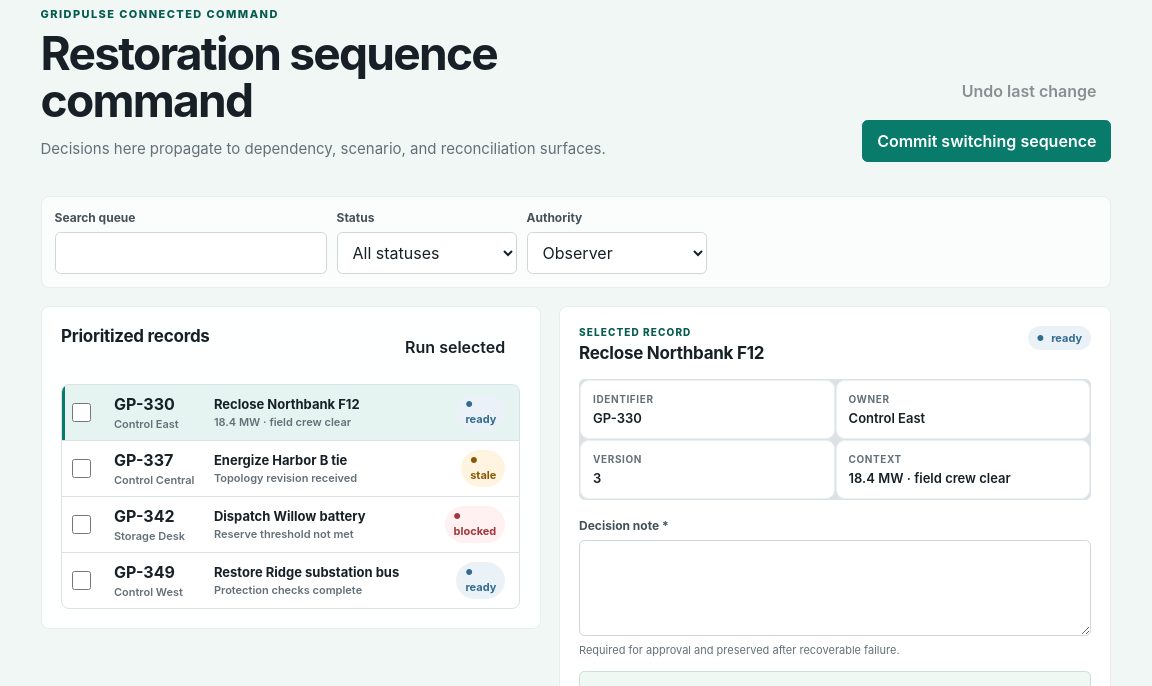
Test: Restoration sequence command › enforces authority and validates the explanation
Click the button "Commit switching sequence" at (987, 141), box [862,120,1111,162]
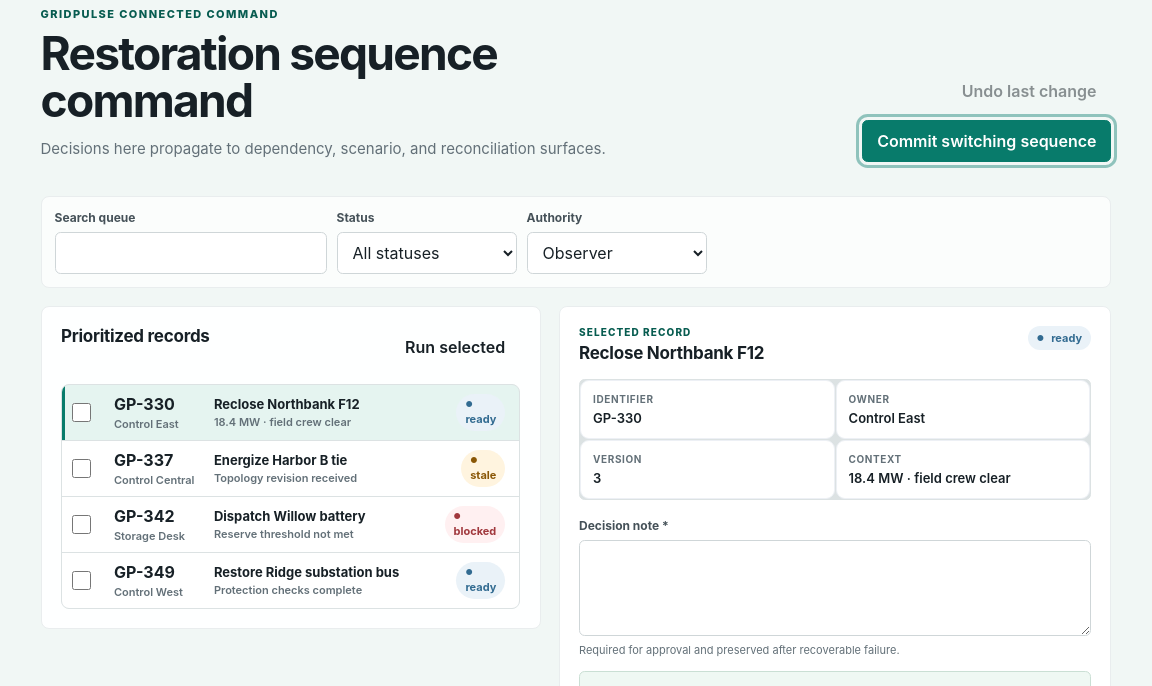
Select "Approver" in the dropdown labelled "Authority" at (616, 253), box [526,232,706,274]
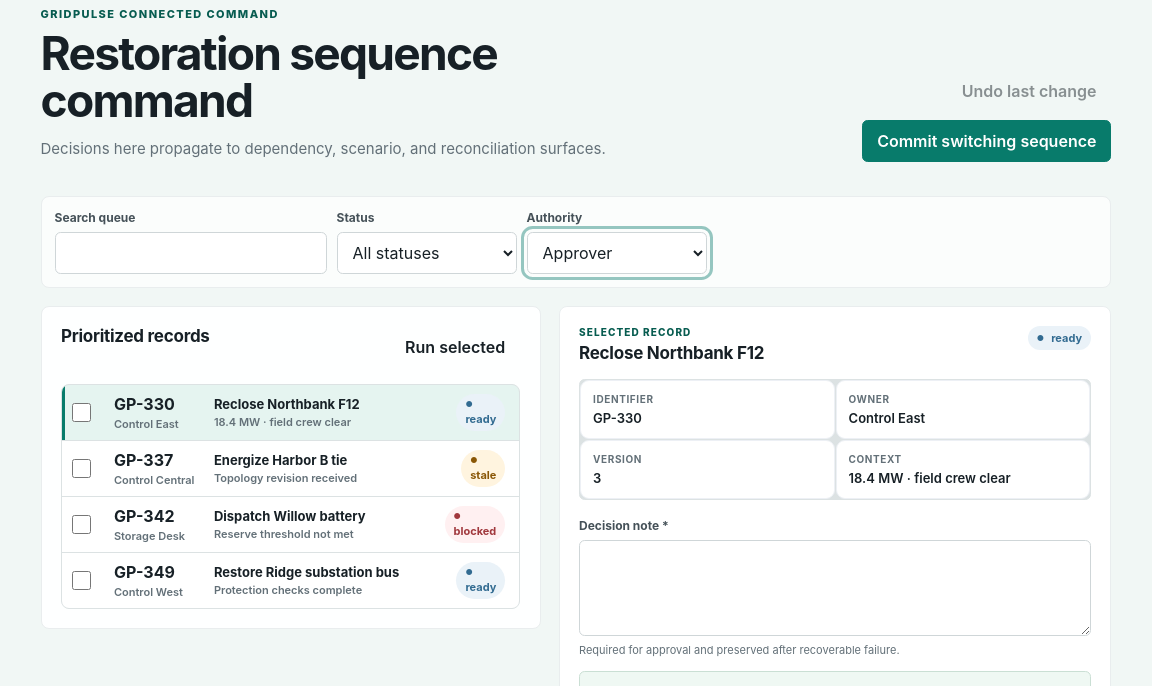
Type "short" into the text box labelled "Decision note" at (835, 588), box [579,540,1091,636]
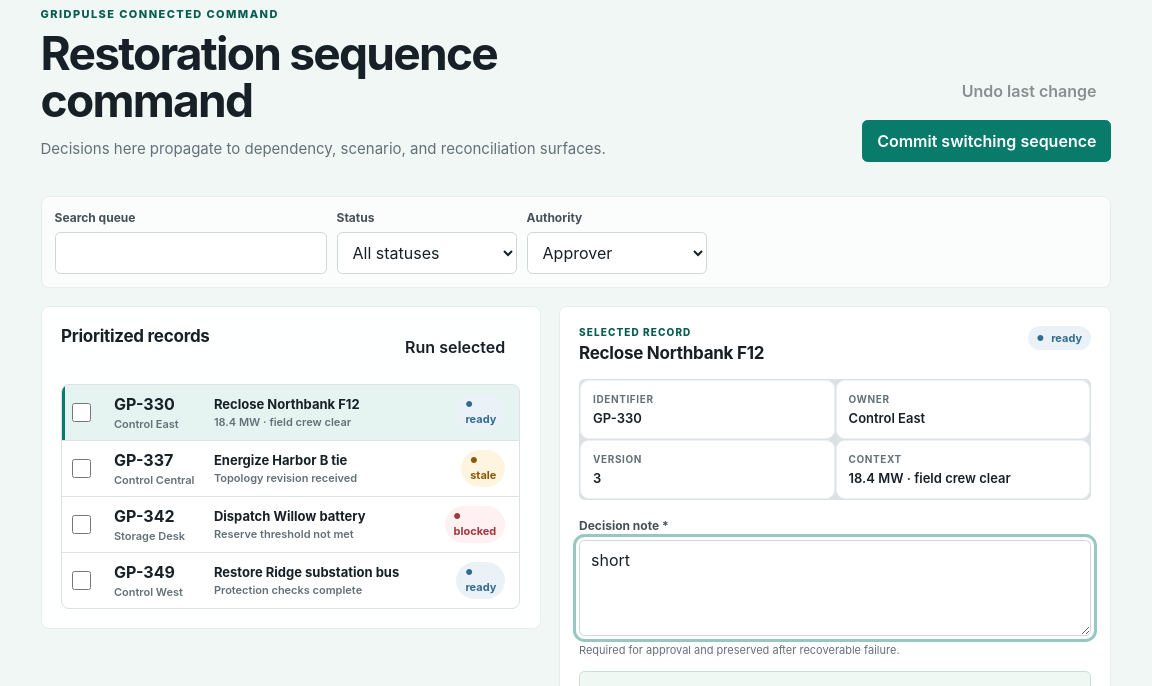
Click the button "Commit switching sequence" at (987, 141), box [862,120,1111,162]
(page scrolled)
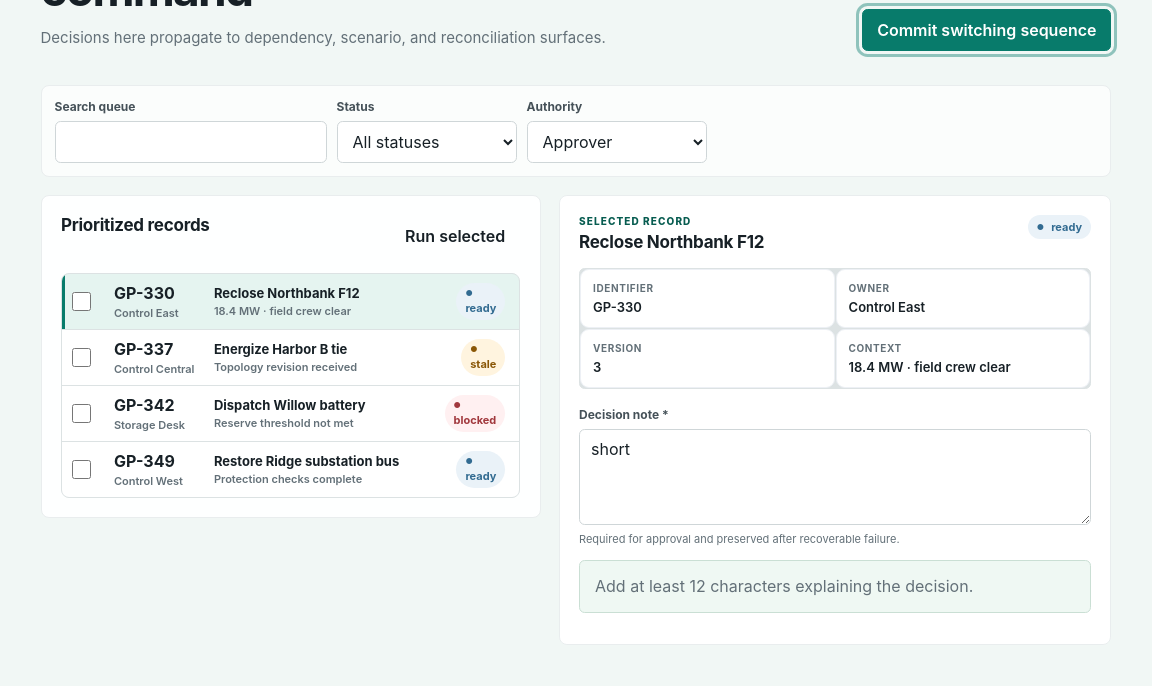
Expected: the message shows "12 characters", [595,576,973,596]
